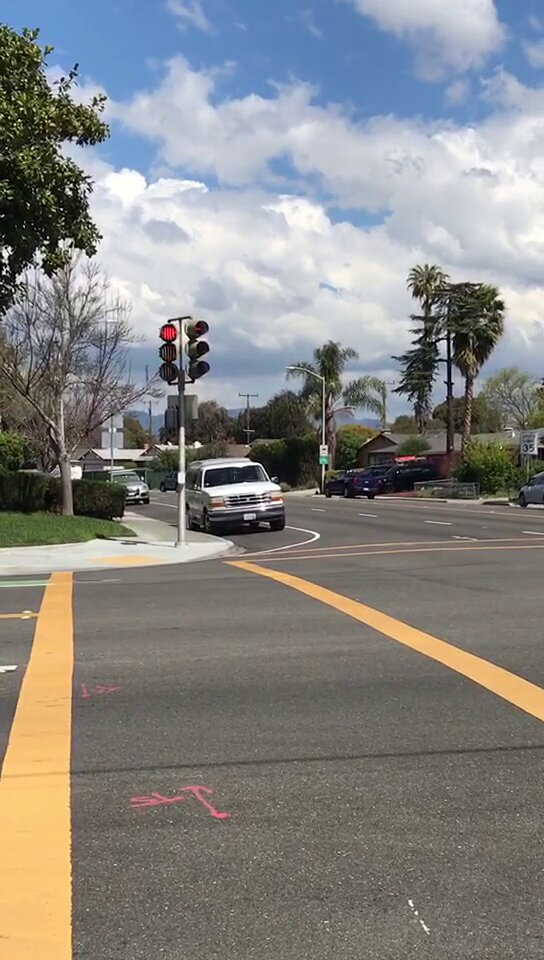red_light: (159, 323, 179, 382)
